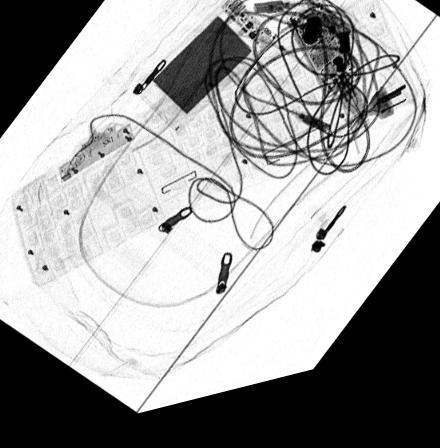Powerbank: (136, 2, 278, 141)
